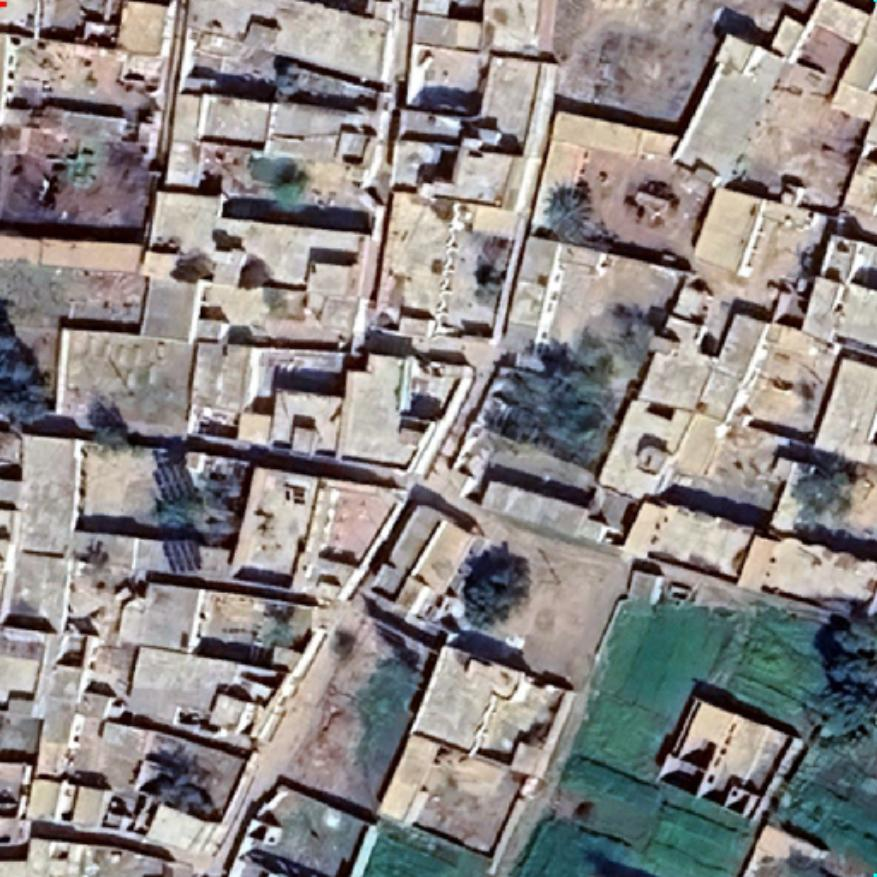Solarpanel: (150, 455, 198, 507), (160, 535, 206, 577)
